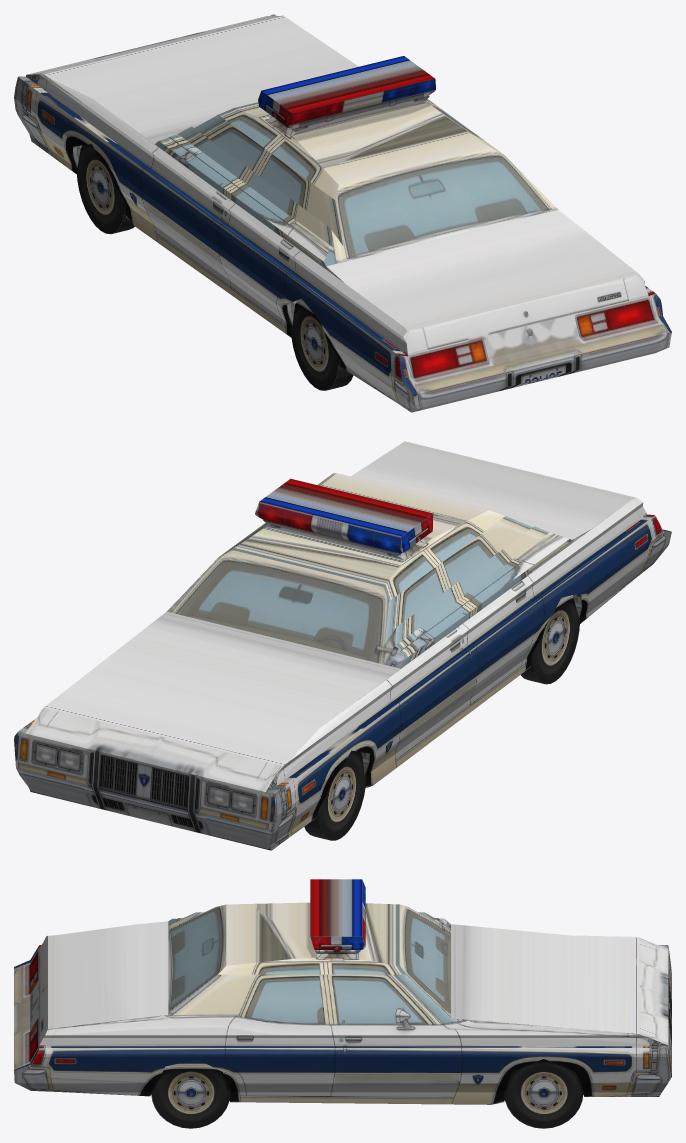
The model's file is police_car.glb.
3 renders of one model, top to bottom at view 1: azimuth 30°, elevation 25°; view 2: azimuth 150°, elevation 25°; view 3: azimuth 270°, elevation 25°, orthographic. The views are drawn at different scales.
Parts seen in each view (by area): view 1: police_car, wheel_BL, wheel_FL; view 2: police_car, wheel_FL, wheel_BL; view 3: police_car, wheel_FR, wheel_BR.
Part boxes in pixels (<box>): police_car: <box>14,14,671,412</box>; wheel_BL: <box>290,299,353,390</box>; wheel_FL: <box>76,144,134,234</box>; police_car: <box>14,441,671,850</box>; wheel_FL: <box>304,750,366,840</box>; wheel_BL: <box>521,595,580,684</box>; police_car: <box>14,879,671,1104</box>; wheel_FR: <box>504,1059,583,1128</box>; wheel_BR: <box>151,1059,230,1128</box>.
Bounding box in the file's own units: 1.93 × 1.47 × 5.1.
Materials: 3 (1 with a texture image).
